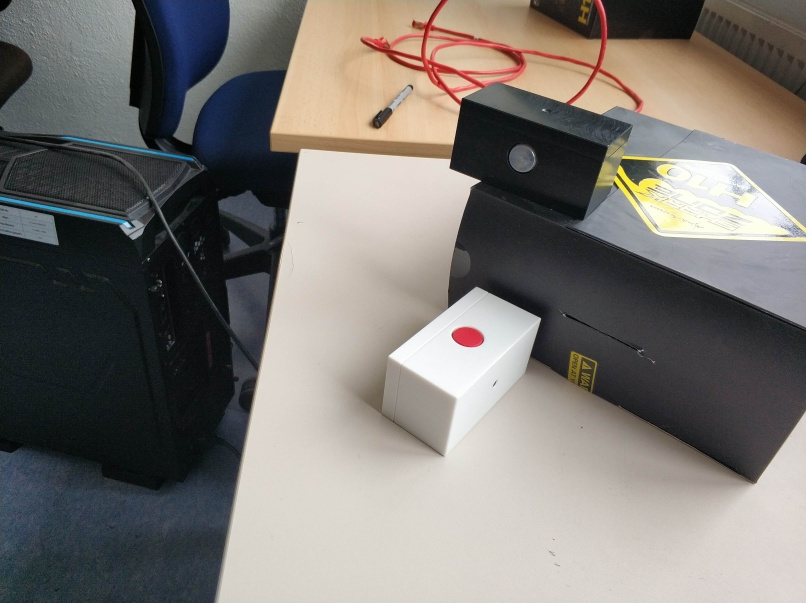black+black+silver: (447, 79, 637, 224)
white+white+red: (378, 283, 545, 461)
